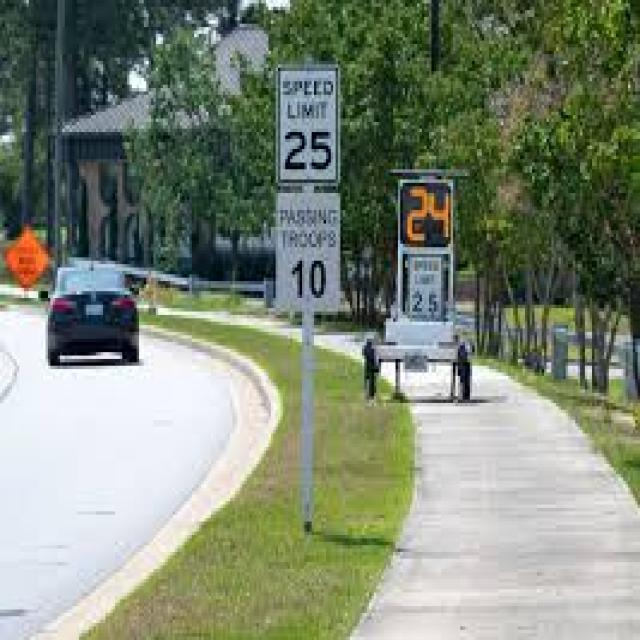speedLimit25: (279, 68, 339, 183), (408, 257, 441, 316)
